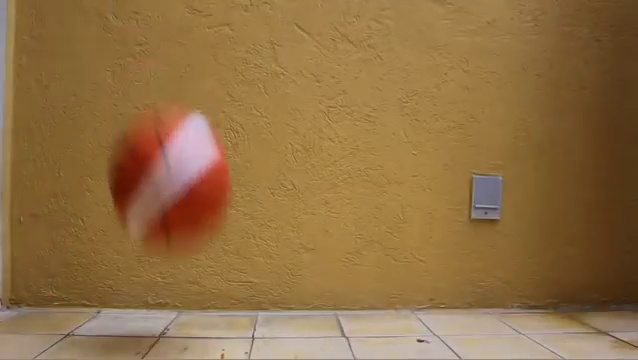ball: (106, 106, 235, 257)
